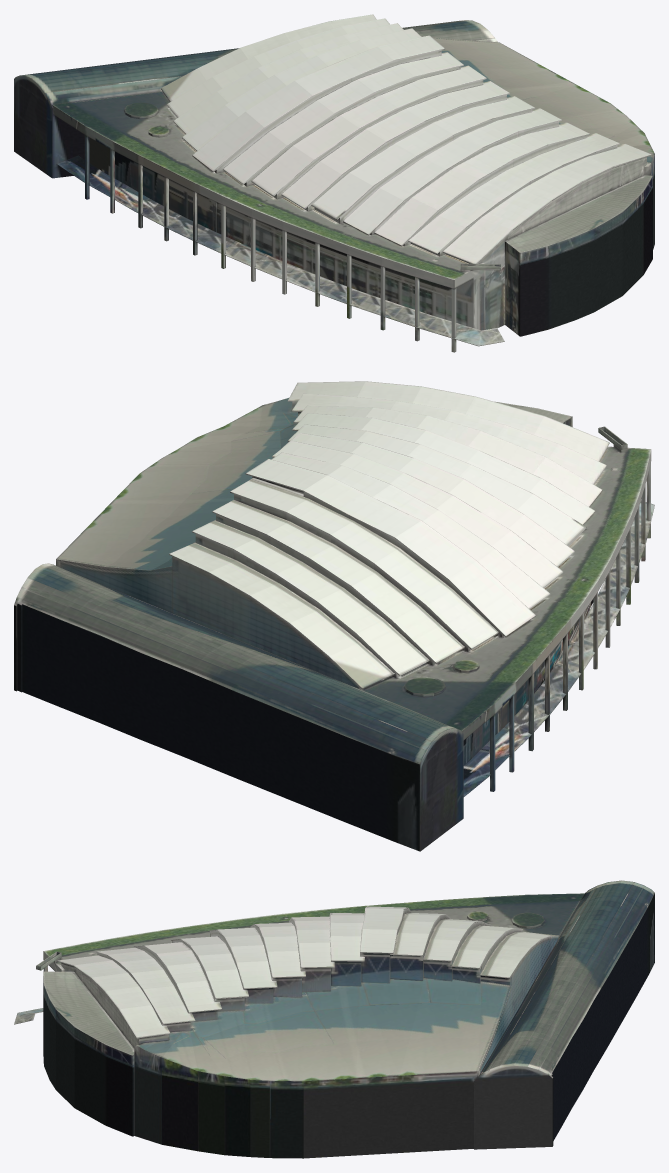
3 renders of one model, top to bottom at view 1: azimuth 30°, elevation 25°; view 2: azimuth 150°, elevation 25°; view 3: azimuth 270°, elevation 25°, orthographic. The views are drawn at different scales.
Visible parts, largest first — view 1: 5_0.glb; view 2: 5_0.glb; view 3: 5_0.glb.
Part boxes in pixels (x1,y1,x2,y2): 5_0.glb: [14, 14, 654, 352]; 5_0.glb: [14, 381, 654, 851]; 5_0.glb: [14, 880, 654, 1158].
Bounding box in the file's own units: 122 × 41.31 × 169.
1 material, 1 textured.
